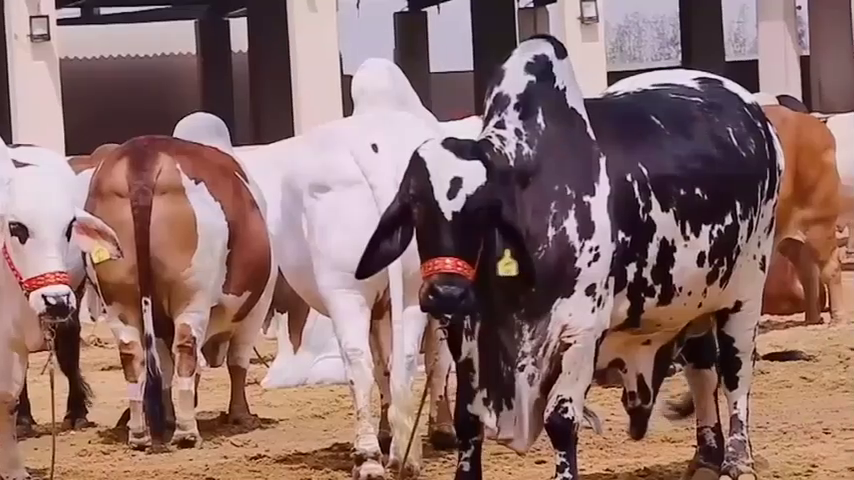bo: (354, 39, 790, 478), (235, 50, 457, 477), (74, 117, 271, 452), (730, 74, 854, 336), (1, 131, 89, 474)
